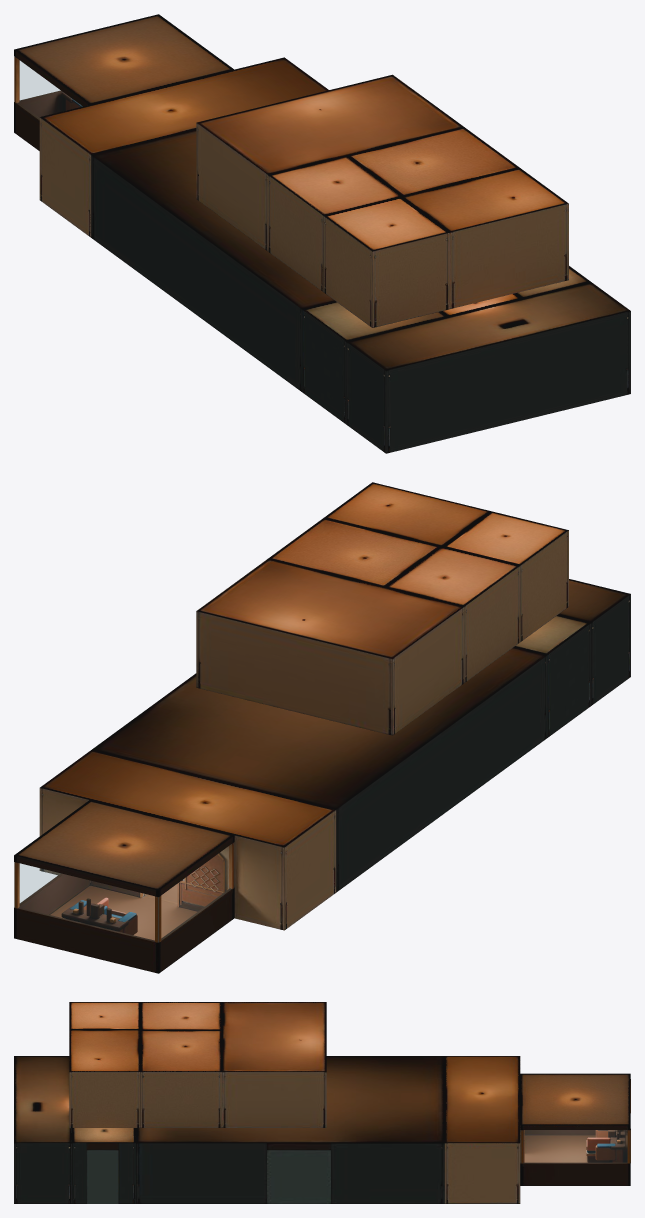
The model's file is dromedary.glb.
The picture shows the model from 3 angles, top to bottom: view 1: azimuth 30°, elevation 25°; view 2: azimuth 150°, elevation 25°; view 3: azimuth 270°, elevation 25°; orthographic projection. The views are drawn at different scales.
Visible parts, largest first — view 1: room_07, room_03, room_08, room_02, room_11, room_12, room_01, room_09, room_10, room_06, room_04; view 2: room_03, room_08, room_01, room_02, room_09, room_12, room_10, room_11, room_06, room_07; view 3: room_03, room_08, room_01, room_02, room_07, room_10, room_11, room_04, room_09, room_12.
Boxes of the visible parts, x1,y1,x2,y2 form: room_07: [346, 282, 630, 453]; room_03: [91, 129, 335, 392]; room_08: [196, 74, 463, 251]; room_02: [39, 57, 328, 237]; room_11: [401, 168, 568, 308]; room_12: [323, 197, 449, 327]; room_01: [14, 14, 233, 150]; room_09: [268, 156, 402, 291]; room_10: [347, 127, 519, 196]; room_06: [302, 301, 447, 424]; room_04: [515, 266, 590, 298]; room_03: [92, 647, 547, 892]; room_08: [196, 559, 464, 735]; room_01: [14, 800, 234, 973]; room_02: [39, 750, 336, 930]; room_09: [385, 546, 520, 682]; room_12: [443, 511, 568, 641]; room_10: [268, 518, 440, 587]; room_11: [324, 482, 490, 546]; room_06: [514, 615, 590, 737]; room_07: [558, 579, 630, 705]; room_03: [136, 1056, 444, 1203]; room_08: [222, 1002, 326, 1127]; room_01: [520, 1073, 630, 1185]; room_02: [444, 1056, 520, 1203]; room_07: [14, 1056, 72, 1203]; room_10: [140, 1030, 221, 1127]; room_11: [69, 1029, 140, 1127]; room_04: [72, 1128, 136, 1203]; room_09: [140, 1002, 221, 1030]; room_12: [69, 1002, 140, 1029].
Bounding box in the file's own units: 7.11 × 4.67 × 21.21.
Materials: 22 (12 with a texture image).
